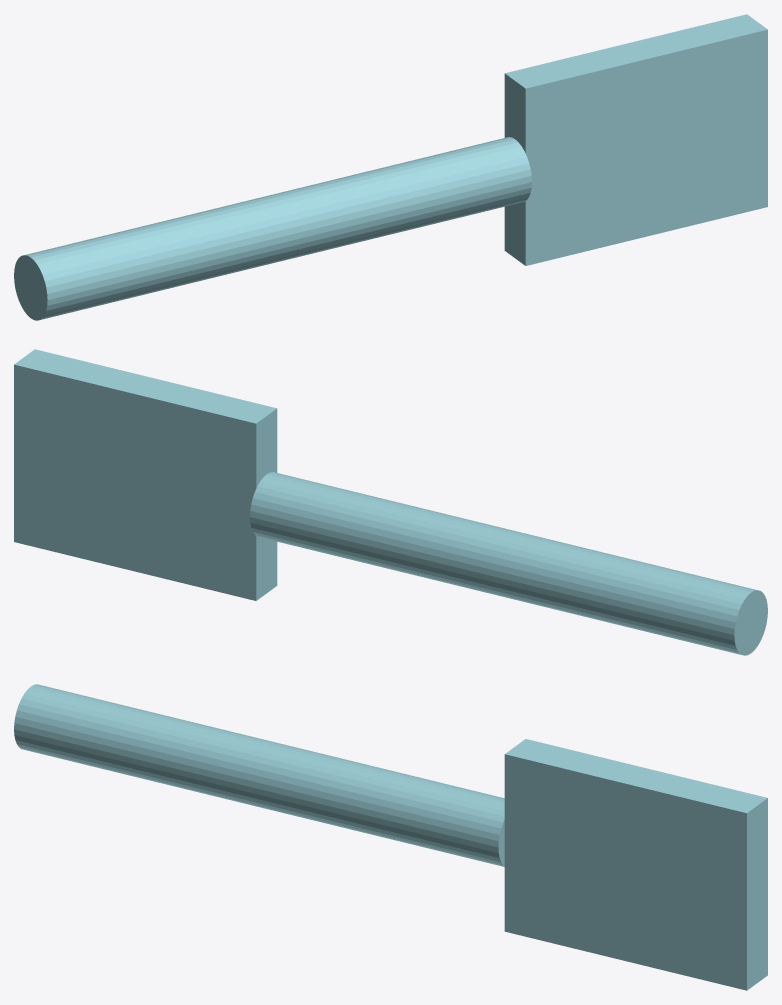
The model's file is primitive_large_spatula.obj.
3 views of the same model, one above another, from view 1: azimuth 30°, elevation 25°; view 2: azimuth 150°, elevation 25°; view 3: azimuth 330°, elevation 25° (orthographic).
Bounding box in the file's own units: 0.3 × 0.07 × 0.024.
1 material, 1 textured.
